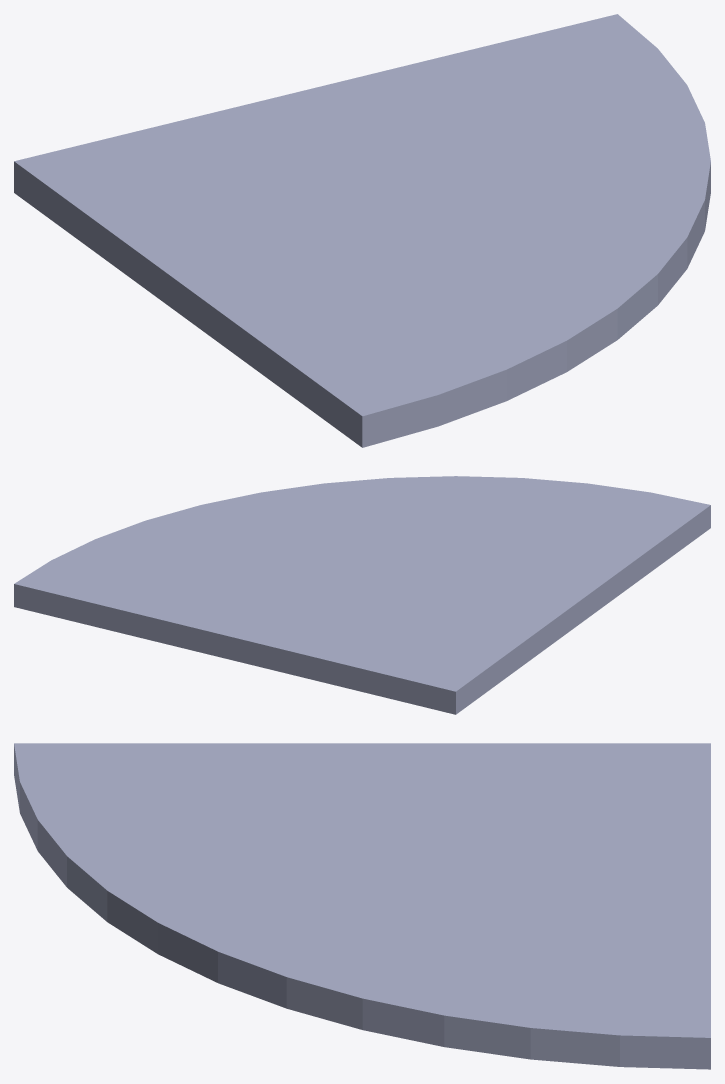
Rendered from floor-corner-round.obj.
3 views of the same model, one above another, from view 1: azimuth 30°, elevation 25°; view 2: azimuth 150°, elevation 25°; view 3: azimuth 270°, elevation 25° (orthographic). The views are drawn at different scales.
Bounding box in the file's own units: 2 × 0.1 × 2.
